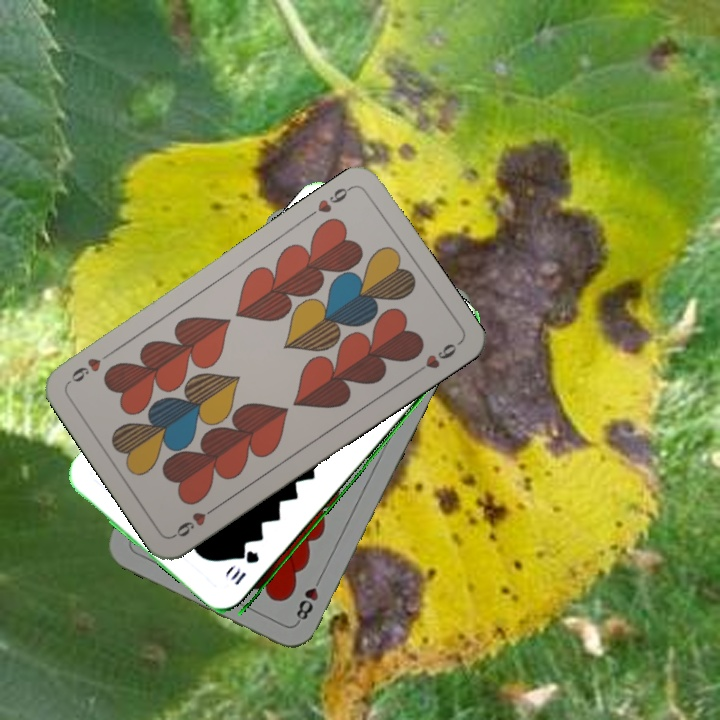G10: (226, 548, 262, 588)
H8: (292, 571, 325, 626)
H9: (169, 501, 221, 540), (313, 182, 355, 216)
